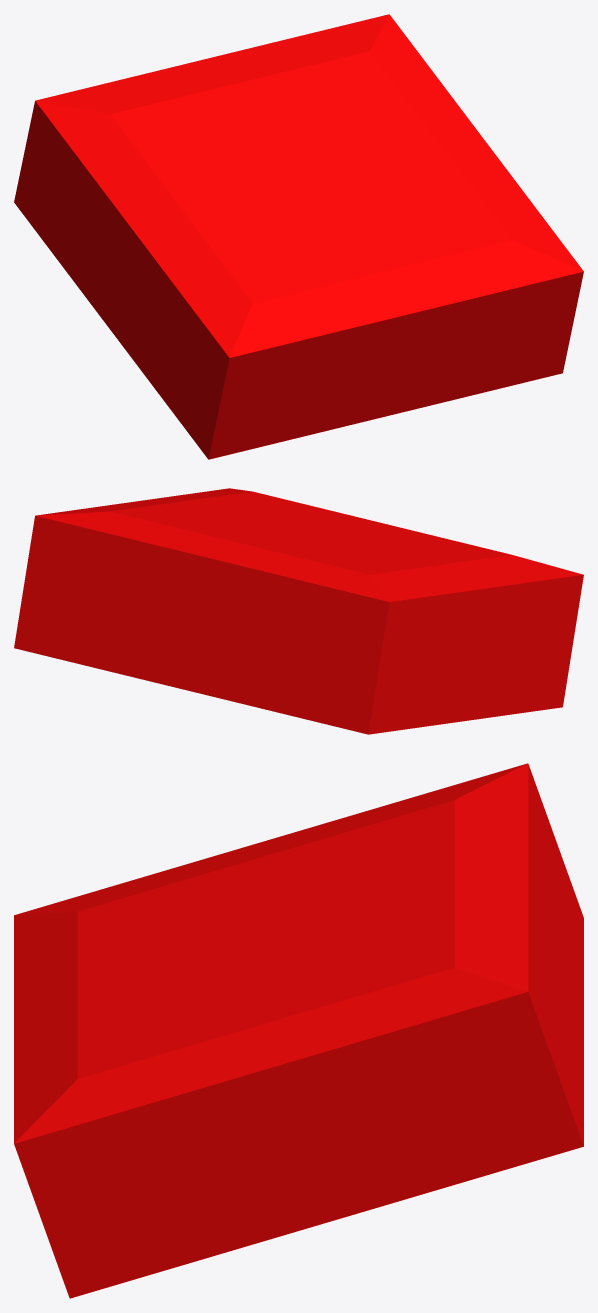
Rendered from Flip_button.glb.
The picture shows the model from 3 angles, top to bottom: view 1: azimuth 30°, elevation 25°; view 2: azimuth 150°, elevation 25°; view 3: azimuth 270°, elevation 25°; orthographic projection. The views are drawn at different scales.
Visible parts, largest first — view 1: Flip_button.001; view 2: Flip_button.001; view 3: Flip_button.001.
Boxes of the visible parts, <box> form: Flip_button.001: <box>14,14,583,459</box>; Flip_button.001: <box>14,488,583,734</box>; Flip_button.001: <box>14,763,583,1298</box>.
Bounding box in the file's own units: 0.2666 × 0.1669 × 0.2809.
Materials: 1 (1 with a texture image).
